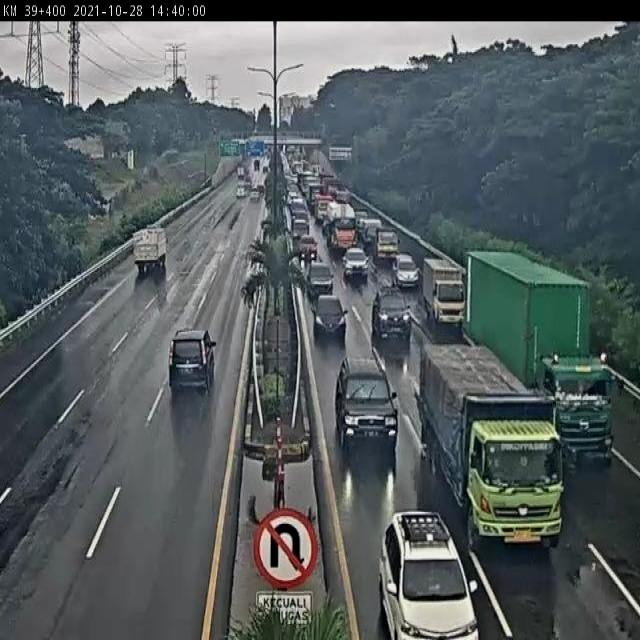Car: (378, 509, 479, 638), (334, 354, 399, 464), (169, 328, 217, 396), (371, 285, 414, 348), (312, 292, 347, 342), (305, 261, 334, 298), (342, 246, 370, 282), (392, 253, 420, 289), (298, 234, 318, 262), (290, 215, 309, 244), (249, 187, 261, 201), (236, 185, 246, 199)
Truck: (468, 244, 622, 473), (416, 338, 546, 526), (422, 260, 466, 334), (132, 226, 166, 278), (325, 200, 359, 251), (374, 228, 399, 265), (357, 217, 382, 253), (314, 195, 334, 224)
